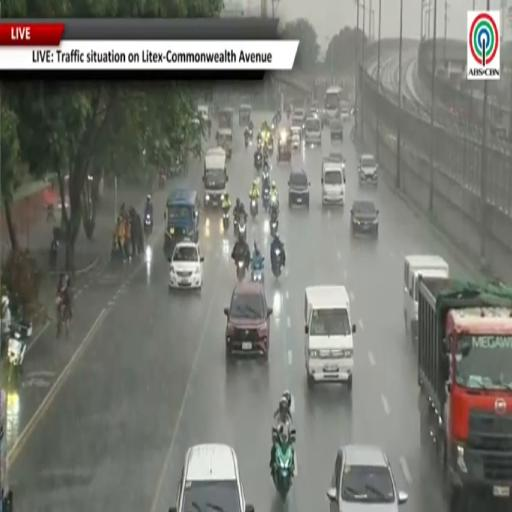bus: (324, 87, 342, 120)
car: (170, 443, 254, 511), (327, 444, 407, 511), (224, 282, 272, 360), (169, 242, 203, 290), (351, 200, 378, 237), (288, 169, 310, 207), (358, 154, 378, 185), (304, 118, 322, 147), (290, 125, 302, 150), (330, 119, 343, 141), (292, 108, 305, 129), (324, 152, 345, 164), (340, 103, 350, 122)
jeepney: (164, 188, 199, 261), (203, 148, 228, 206), (216, 128, 232, 158), (277, 130, 291, 163), (198, 105, 211, 137), (218, 108, 233, 130), (290, 126, 301, 150), (239, 104, 251, 126)
motorcycle: (272, 427, 296, 500), (8, 328, 29, 373), (56, 295, 70, 339), (49, 238, 59, 270), (272, 248, 282, 279), (237, 217, 246, 241), (251, 266, 263, 282), (144, 214, 152, 236), (254, 151, 263, 170), (262, 188, 269, 211), (270, 216, 278, 236), (237, 261, 245, 280), (250, 199, 258, 218), (262, 163, 269, 183), (158, 173, 166, 189), (223, 211, 229, 230), (244, 131, 250, 148), (267, 139, 273, 155), (234, 215, 238, 237), (249, 127, 253, 139)
truck: (418, 277, 511, 511), (0, 389, 13, 511)
